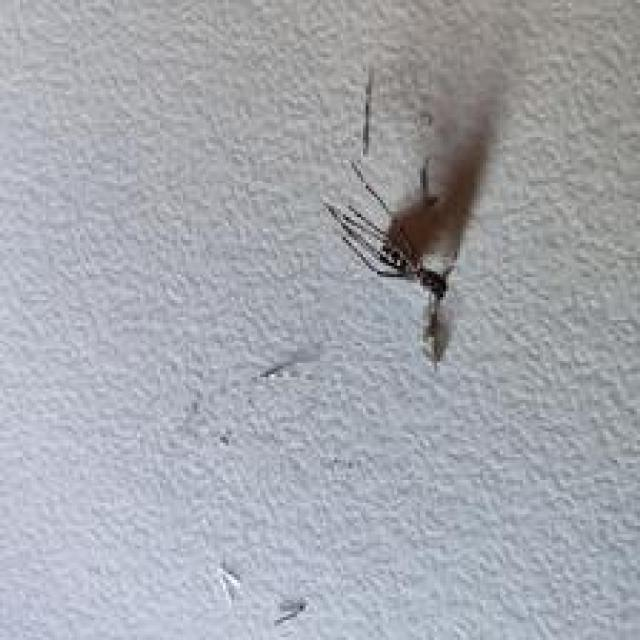Aedes albopictus: (320, 65, 500, 368)
